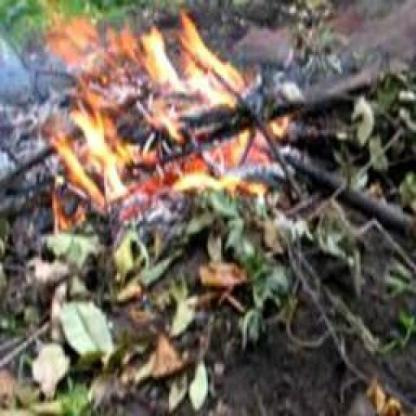fire: (42, 9, 257, 241)
